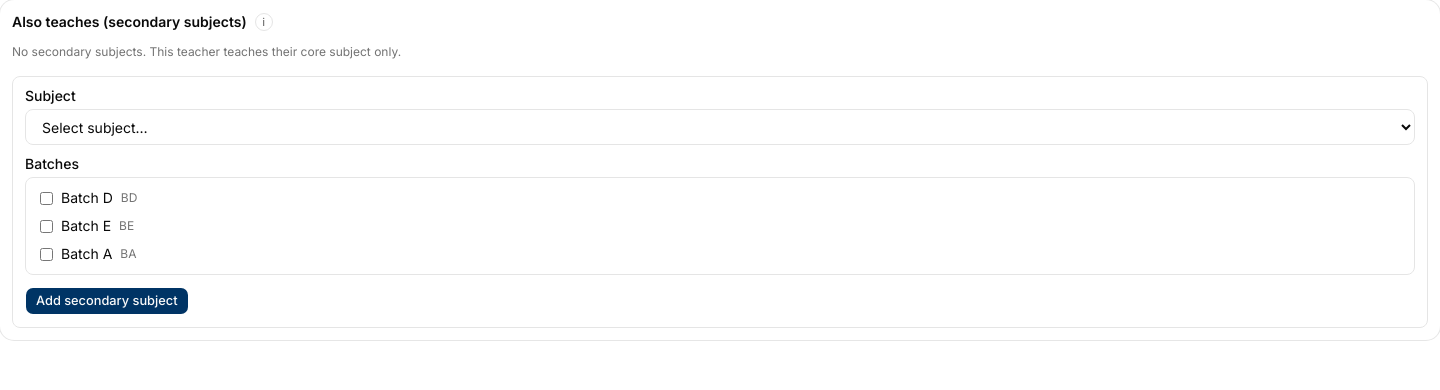
Test case: SecondarySubjects › validates that a subject and at least one batch are chosen
Click the button "Add secondary subject": (107, 301) 25,287 -> 188,315
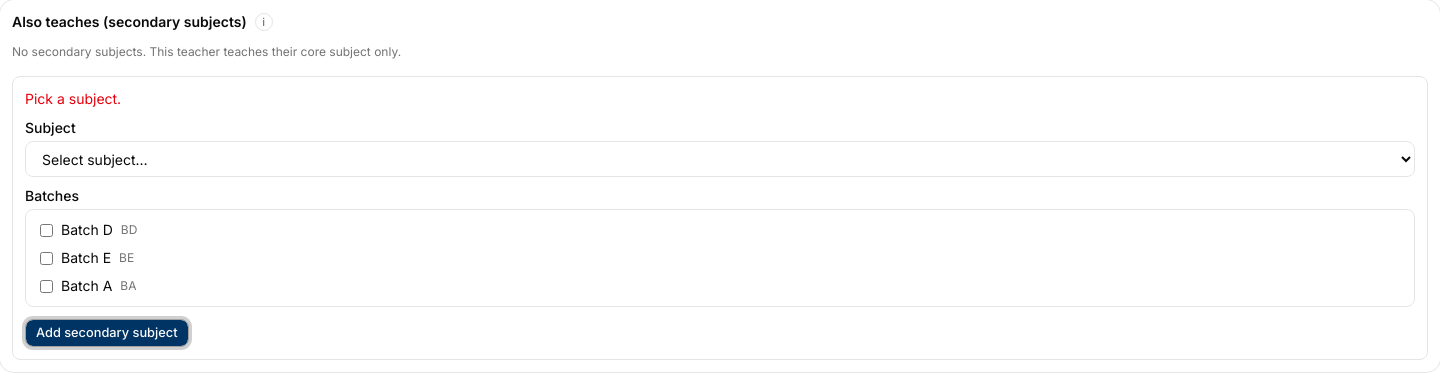
expect the text "Pick a subject." is shown: met, box 25,90 -> 121,107
